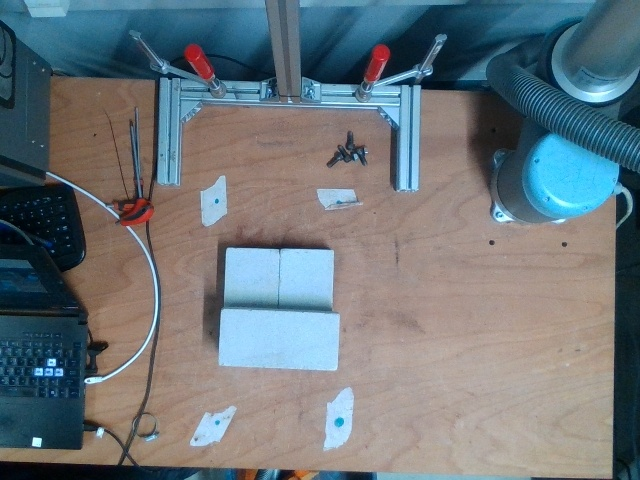brick: (217, 309, 338, 370)
